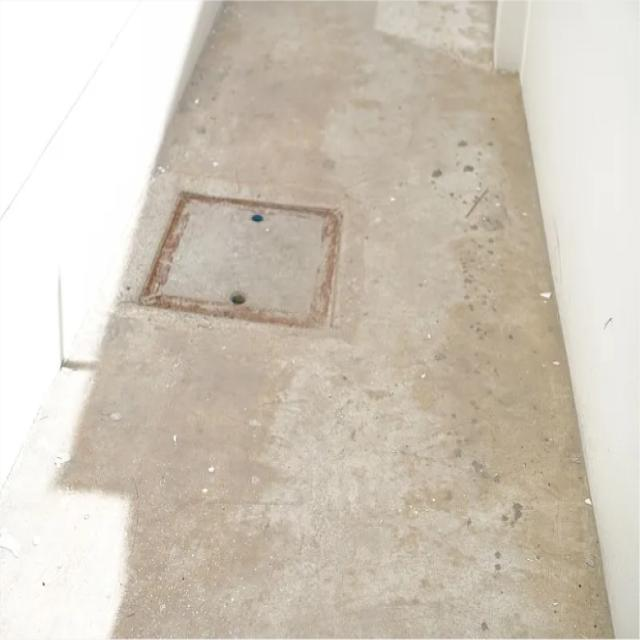manhole: (142, 192, 338, 326)
